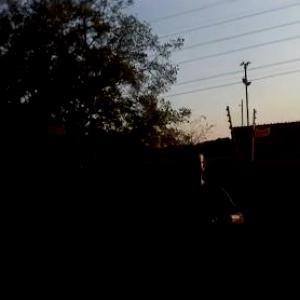follow: (159, 136, 248, 299)
